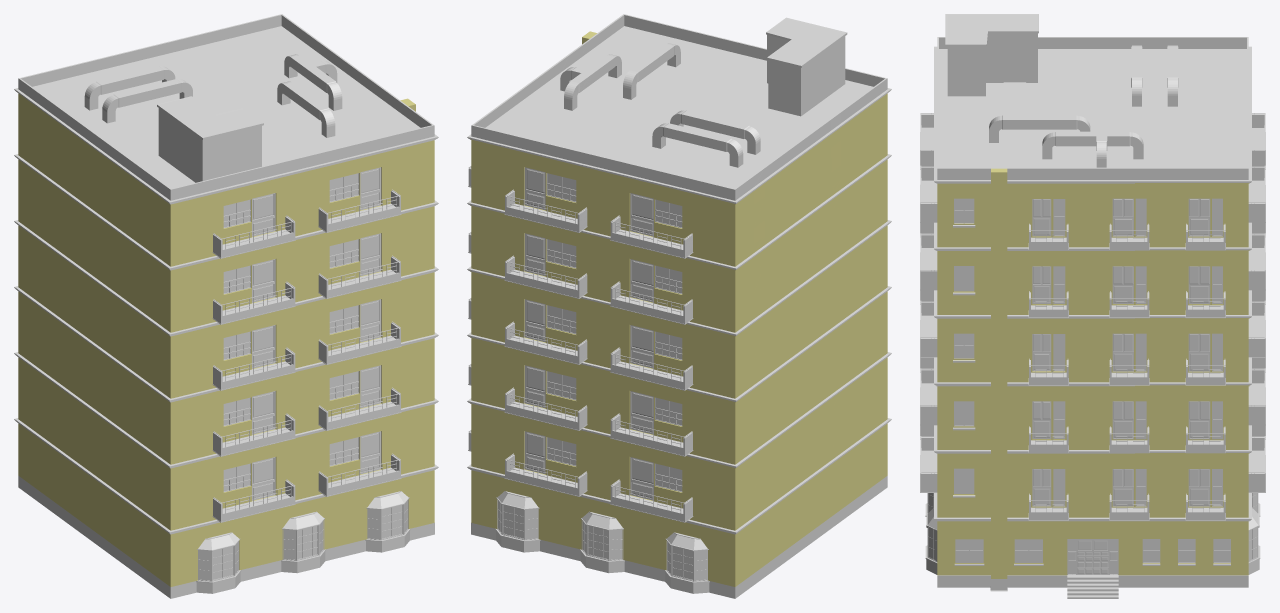
File: Building2.fbx
The picture shows the model from 3 angles, left to right: view 1: azimuth 30°, elevation 25°; view 2: azimuth 150°, elevation 25°; view 3: azimuth 270°, elevation 25°; orthographic projection. The views are drawn at different scales.
Parts seen in each view (by area): view 1: Floors, Roof, Ground Floor, side windows; view 2: Floors, Roof, Ground Floor, side windows; view 3: Floors, Roof, Ground Floor, Main Door, side windows, Stairs.
Boxes of the visible parts, x1,y1,x2,y2 form: Floors: (14, 154, 438, 530); Roof: (14, 14, 438, 266); Ground Floor: (14, 418, 438, 598); side windows: (196, 491, 410, 593); Floors: (467, 154, 891, 530); Roof: (467, 14, 891, 266); Ground Floor: (467, 418, 891, 598); side windows: (495, 491, 709, 593); Floors: (920, 222, 1265, 521); Roof: (920, 14, 1265, 251); Ground Floor: (934, 493, 1251, 591); Main Door: (1067, 539, 1118, 574); side windows: (925, 493, 1260, 574); Stairs: (1067, 575, 1118, 598).
Size of the model in its own units: 220 by 325 by 222.
